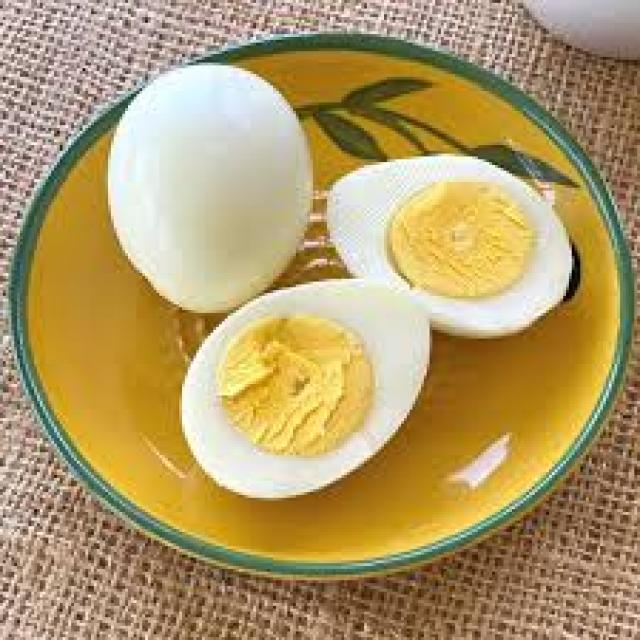boiled egg: (95, 37, 558, 495), (106, 63, 312, 312)
